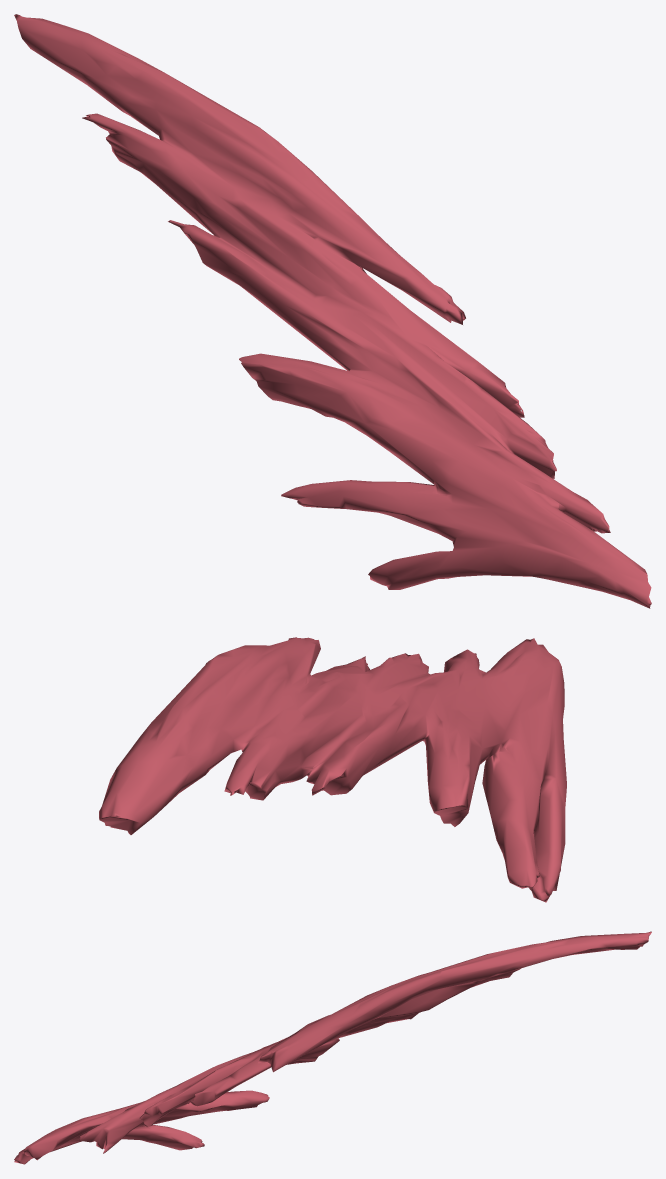
The picture shows the model from 3 angles, top to bottom: view 1: azimuth 30°, elevation 25°; view 2: azimuth 150°, elevation 25°; view 3: azimuth 270°, elevation 25°; orthographic projection. The views are drawn at different scales.
Parts seen in each view (by area): view 1: 右侧颈半棘肌; view 2: 右侧颈半棘肌; view 3: 右侧颈半棘肌.
Boxes of the visible parts, left/top/right/bottom form: 右侧颈半棘肌: left=14, top=14, right=651, bottom=608; 右侧颈半棘肌: left=99, top=637, right=566, bottom=902; 右侧颈半棘肌: left=14, top=931, right=651, bottom=1164.
Size of the model in its own units: 0.05 by 0.0777 by 0.2099.
